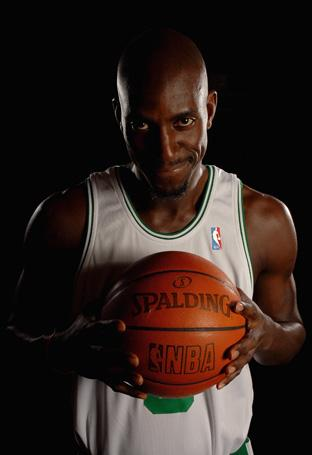ball: (104, 251, 248, 399)
